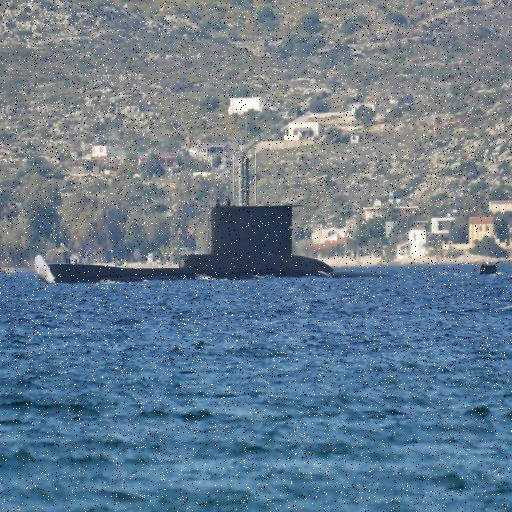submarine: (42, 194, 499, 282)
